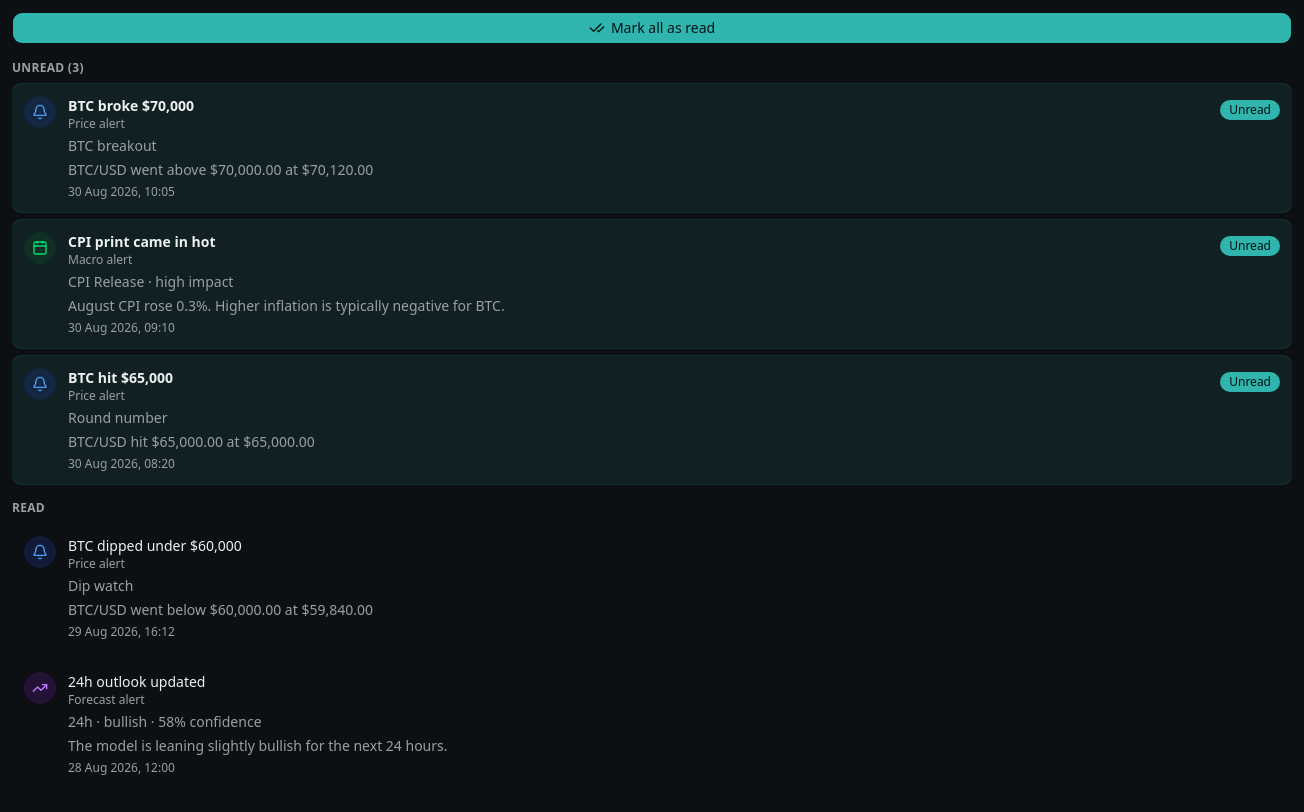
it: NotificationList › marks every notification as read
Click the button "Mark all as read" at (652, 28), box [12,12,1292,44]
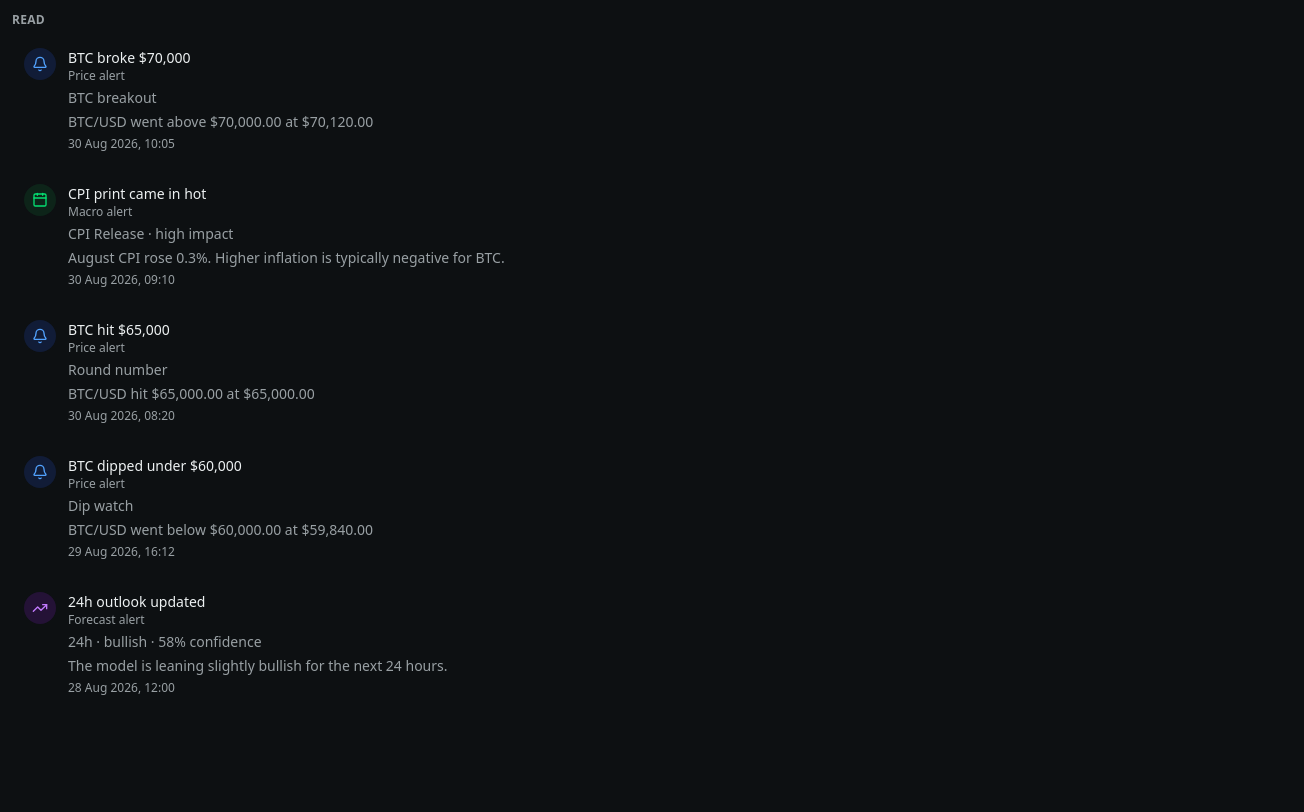
Result: the button "Mark all as read" is gone
Result: the heading "Unread" is gone
